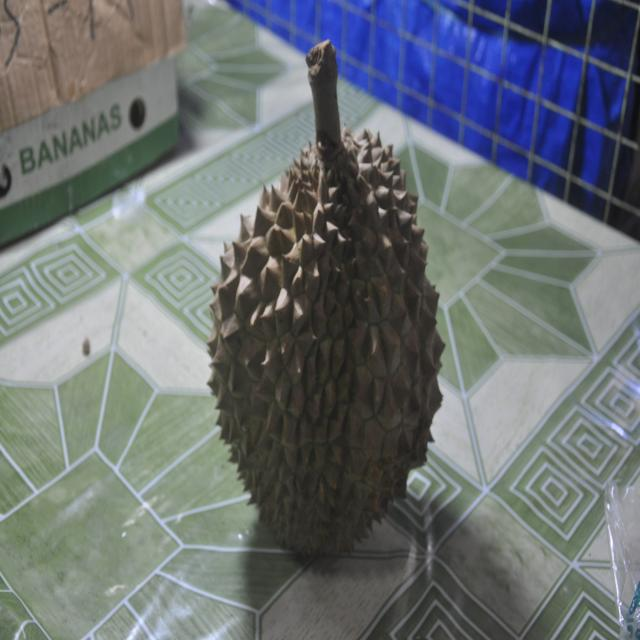mature: (208, 40, 444, 554)
